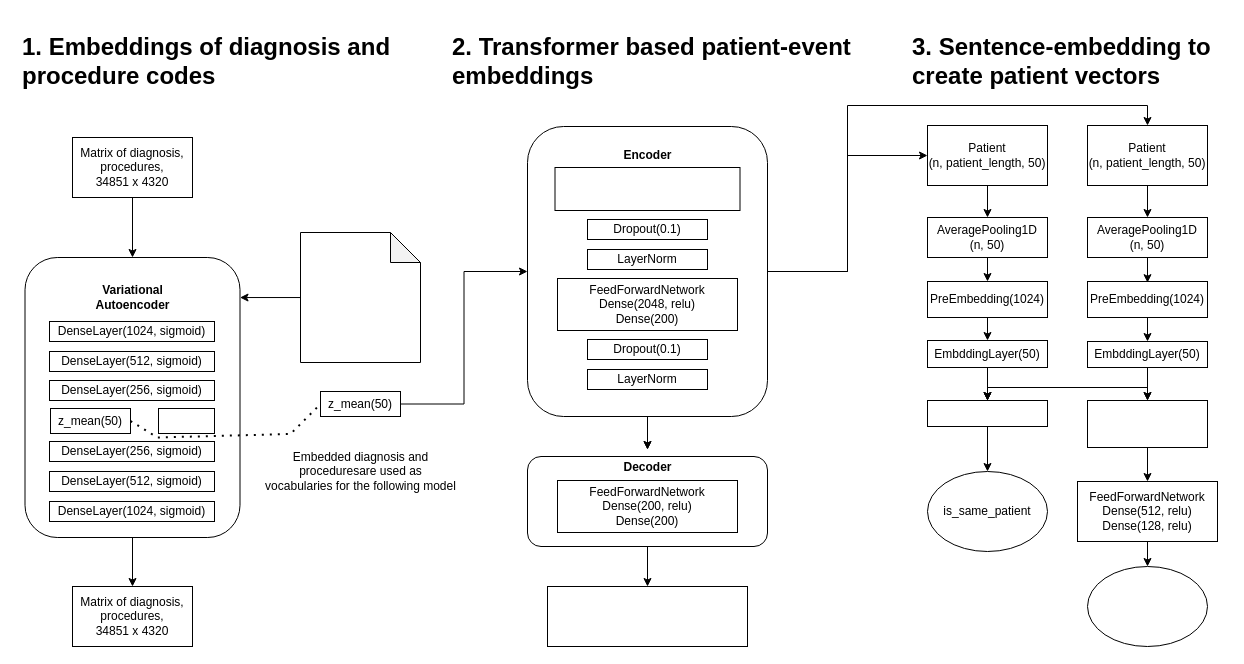
Image size: 1244x664. Some labels were removed from this diagram. Each missing label, with the centre of its shape:
"ConcatenateLayer (100)" belongs at point (1147, 424).
"is_next_event" belongs at point (1147, 606).
"MeanSquare" belongs at point (987, 413).
"MultiHeadAttentioin (L=6, H = 10, diff = 2048, d = 200)" belongs at point (647, 188).
"Optimization: 1. Reconstruction 2. Cosine similarity" belongs at point (360, 297).
"OutputLayer (n, patient_length, vocab_size)" belongs at point (647, 616).
"z_sigma" belongs at point (186, 421).
